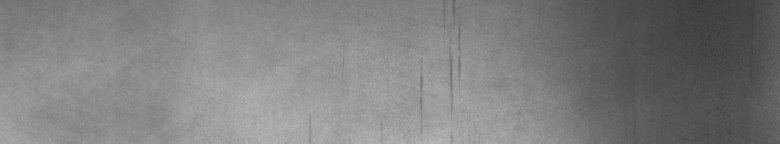ka: (417, 4, 461, 111)
